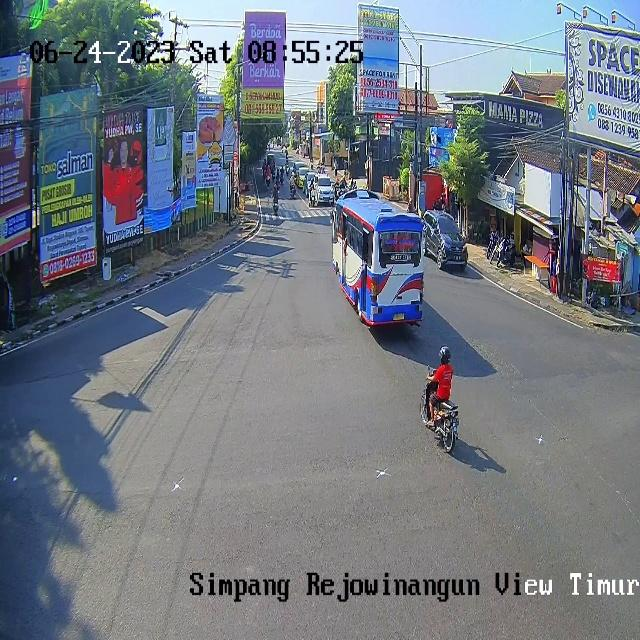bus: (420, 369, 460, 454), (272, 199, 279, 215), (290, 182, 296, 198)
car: (332, 187, 424, 328)
motorcycle: (423, 210, 468, 272), (314, 174, 334, 204), (303, 171, 316, 196), (296, 166, 310, 188)
